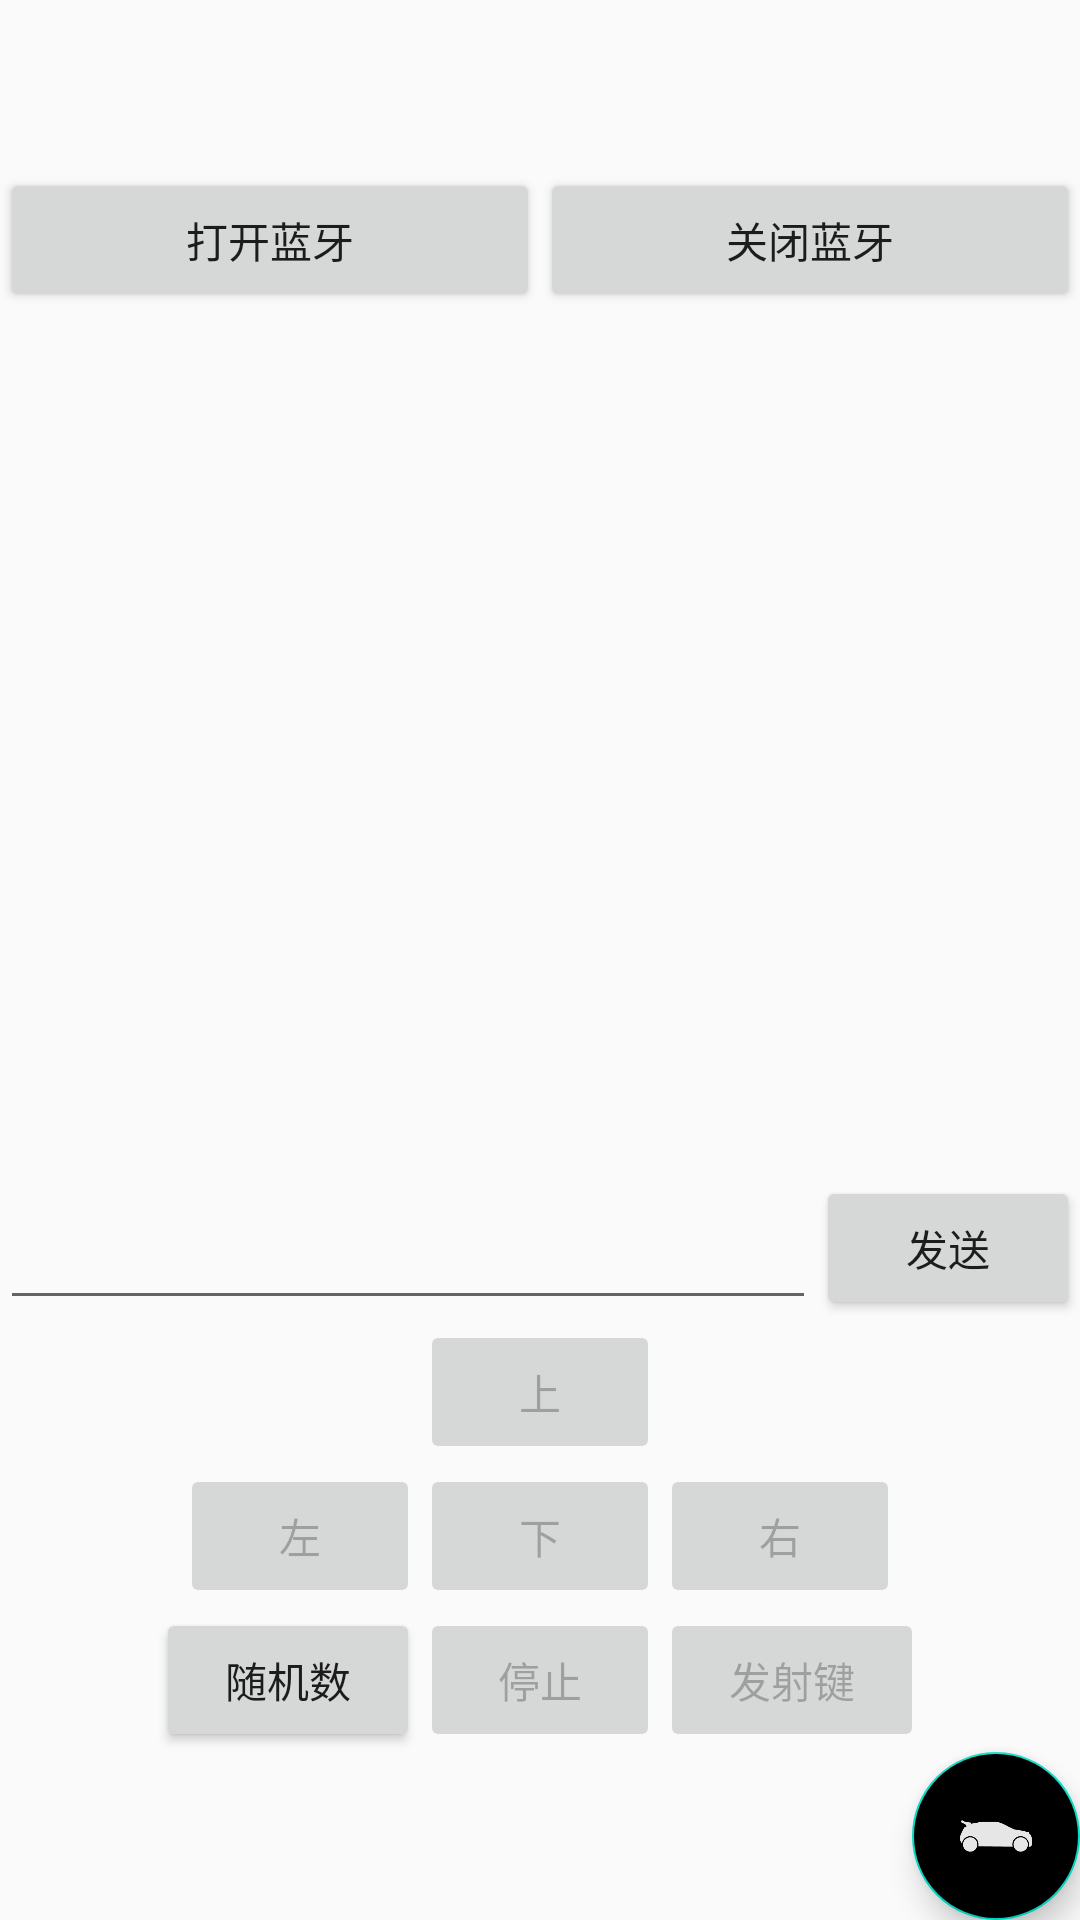

Screen size 1080 x 1920. Icon name, then its box in pixels as (x1, y1, x2, y2):
car: (912, 1752, 1080, 1920)
